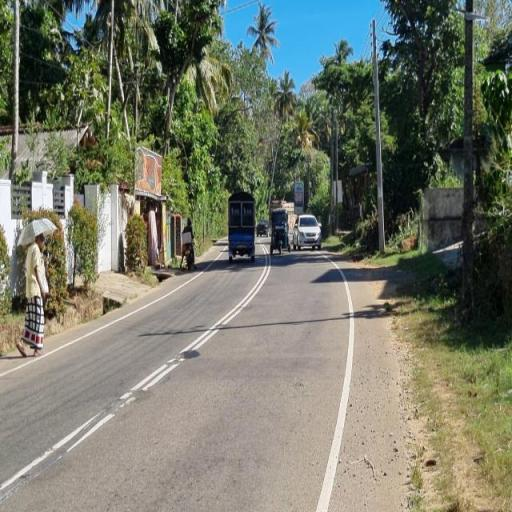double_white_line: (116, 253, 270, 406)
